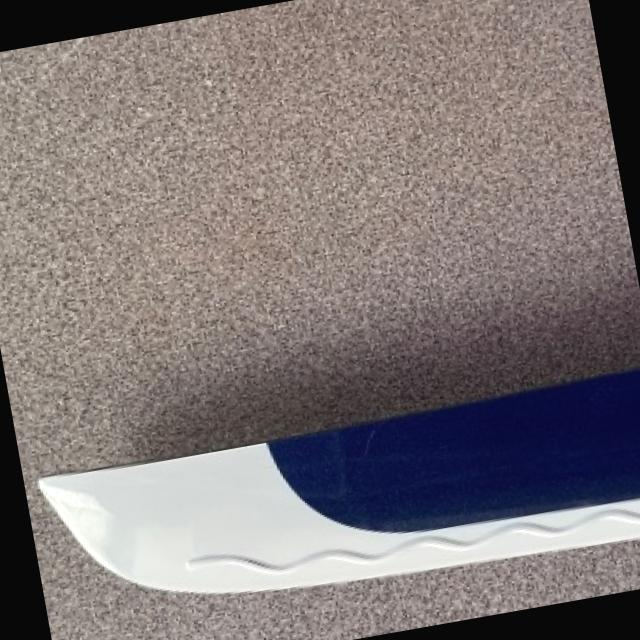healthy: (42, 368, 640, 590)
